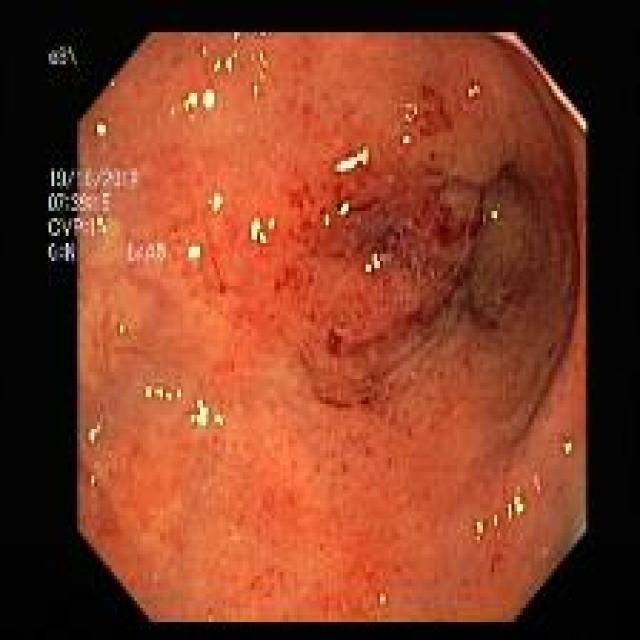ulcerative-colitis: (79, 33, 585, 621)
